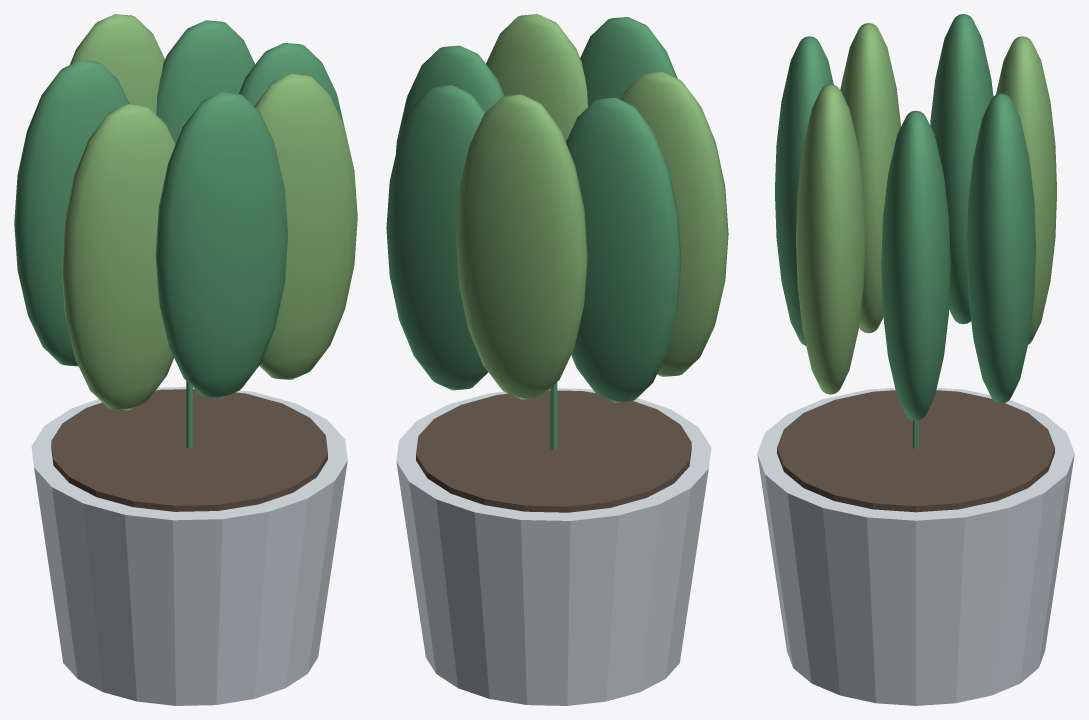
Rendered from decor_01.glb.
3 views of the same model, side by side, from view 1: azimuth 30°, elevation 25°; view 2: azimuth 150°, elevation 25°; view 3: azimuth 270°, elevation 25° (orthographic).
Visible parts, largest first — view 1: Leaf (×7), Pot, Soil; view 2: Leaf (×7), Pot, Soil; view 3: Leaf (×7), Pot, Soil.
Part boxes in pixels (x1=…): Leaf (×7): x1=14, y1=14, x2=357, y2=410; Pot: x1=31, y1=387, x2=347, y2=705; Soil: x1=51, y1=389, x2=327, y2=511; Leaf (×7): x1=386, y1=14, x2=728, y2=402; Pot: x1=396, y1=388, x2=711, y2=705; Soil: x1=416, y1=390, x2=691, y2=512; Leaf (×7): x1=775, y1=14, x2=1056, y2=420; Pot: x1=757, y1=388, x2=1074, y2=705; Soil: x1=777, y1=390, x2=1054, y2=512.
Size of the model in its own units: 0.7182 by 1.34 by 0.64.
